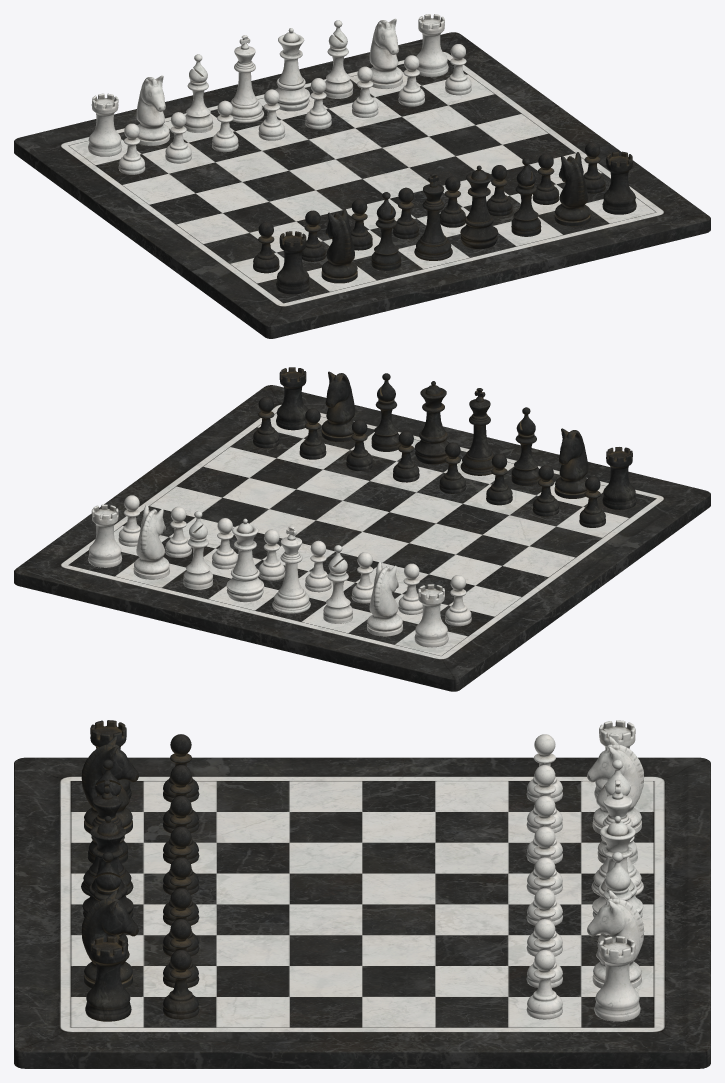
3 views of the same model, one above another, from view 1: azimuth 30°, elevation 25°; view 2: azimuth 150°, elevation 25°; view 3: azimuth 270°, elevation 25° (orthographic). The views are drawn at different scales.
Visible parts, largest first — view 1: board, piece_queen_black, piece_knight_black_01, piece_knight_black_02, piece_queen_white, piece_knight_white_02, piece_knight_white_01, piece_king_black, piece_king_white, piece_rook_black_01, piece_rook_black_02, piece_rook_white_02 (+21 smaller); view 2: board, piece_queen_white, piece_knight_white_01, piece_knight_white_02, piece_queen_black, piece_knight_black_01, piece_knight_black_02, piece_king_white, piece_king_black, piece_rook_white_02, piece_rook_black_01, piece_rook_white_01 (+21 smaller); view 3: board, piece_rook_black_02, piece_rook_white_01, piece_knight_black_02, piece_knight_white_01, piece_knight_white_02, piece_knight_black_01, piece_queen_white, piece_queen_black, piece_pawn_white_01, piece_pawn_black_08, piece_king_white (+21 smaller).
Boxes of the visible parts, box(x1,y1,x2,y2) form: board: box(14, 32, 710, 338); piece_queen_black: box(460, 165, 498, 249); piece_knight_black_01: box(321, 209, 357, 283); piece_knight_black_02: box(554, 152, 590, 226); piece_queen_white: box(275, 28, 309, 111); piece_knight_white_02: box(136, 75, 169, 145); piece_knight_white_01: box(369, 18, 402, 88); piece_king_black: box(414, 173, 452, 260); piece_king_white: box(230, 35, 264, 122); piece_rook_black_01: box(276, 231, 310, 294); piece_rook_black_02: box(602, 151, 636, 214); piece_rook_white_02: box(88, 93, 122, 156); board: box(14, 385, 710, 691); piece_queen_white: box(226, 518, 263, 602); piece_knight_white_01: box(133, 505, 169, 579); piece_knight_white_02: box(367, 562, 402, 636); piece_queen_black: box(414, 381, 449, 464); piece_knight_black_01: box(554, 428, 588, 498); piece_knight_black_02: box(321, 371, 354, 442); piece_king_white: box(272, 526, 310, 613); piece_king_black: box(460, 388, 494, 475); piece_rook_white_02: box(414, 584, 448, 647); piece_rook_black_01: box(602, 447, 636, 509); piece_rook_white_01: box(88, 504, 122, 567); board: box(14, 757, 710, 1068); piece_rook_black_02: box(85, 936, 131, 1021); piece_rook_white_01: box(594, 936, 640, 1021); piece_knight_black_02: box(81, 890, 138, 988); piece_knight_white_01: box(587, 890, 644, 988); piece_knight_white_02: box(587, 736, 644, 833); piece_knight_black_01: box(81, 736, 138, 833); piece_queen_white: box(592, 816, 643, 917); piece_queen_black: box(82, 816, 133, 917); piece_pawn_white_01: box(526, 950, 562, 1019); piece_pawn_black_08: box(163, 950, 199, 1019); piece_king_white: box(591, 779, 643, 895).
Size of the model in its own units: 0.5532 by 0.1124 by 0.5532.
3 materials, 3 textured.
